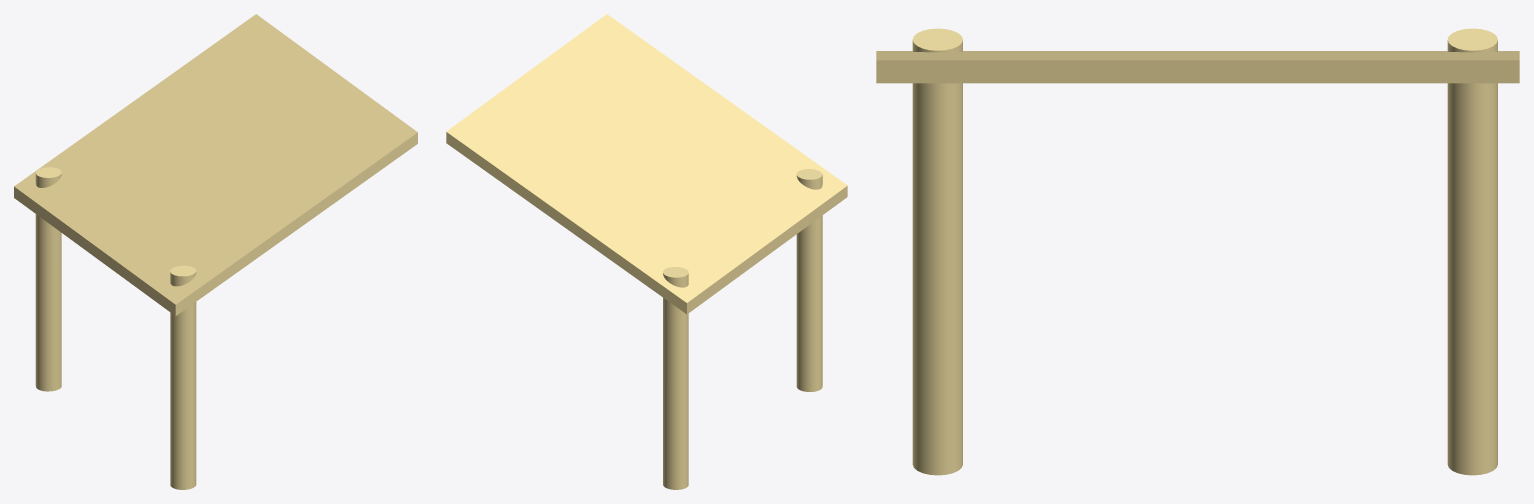
The model's file is OdunÜst.fbx.
The picture shows the model from 3 angles, left to right: view 1: azimuth 30°, elevation 25°; view 2: azimuth 150°, elevation 25°; view 3: azimuth 270°, elevation 25°; orthographic projection. The views are drawn at different scales.
Visible parts, largest first — view 1: pCylinder31; view 2: pCylinder31; view 3: pCylinder31.
Boxes of the visible parts, x1=… form: pCylinder31: x1=14, y1=14, x2=417, y2=489; pCylinder31: x1=446, y1=14, x2=847, y2=489; pCylinder31: x1=876, y1=28, x2=1519, y2=475.
Bounding box in the file's own units: 4.23 × 5.17 × 4.89.
